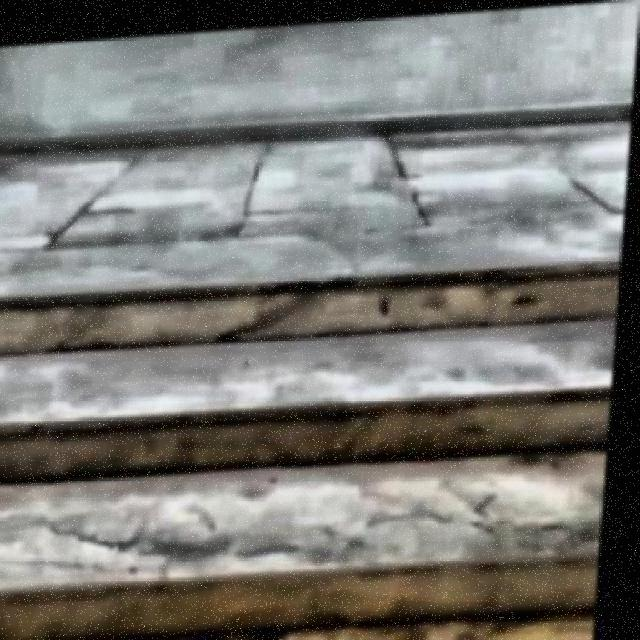stair: (2, 251, 620, 638)
